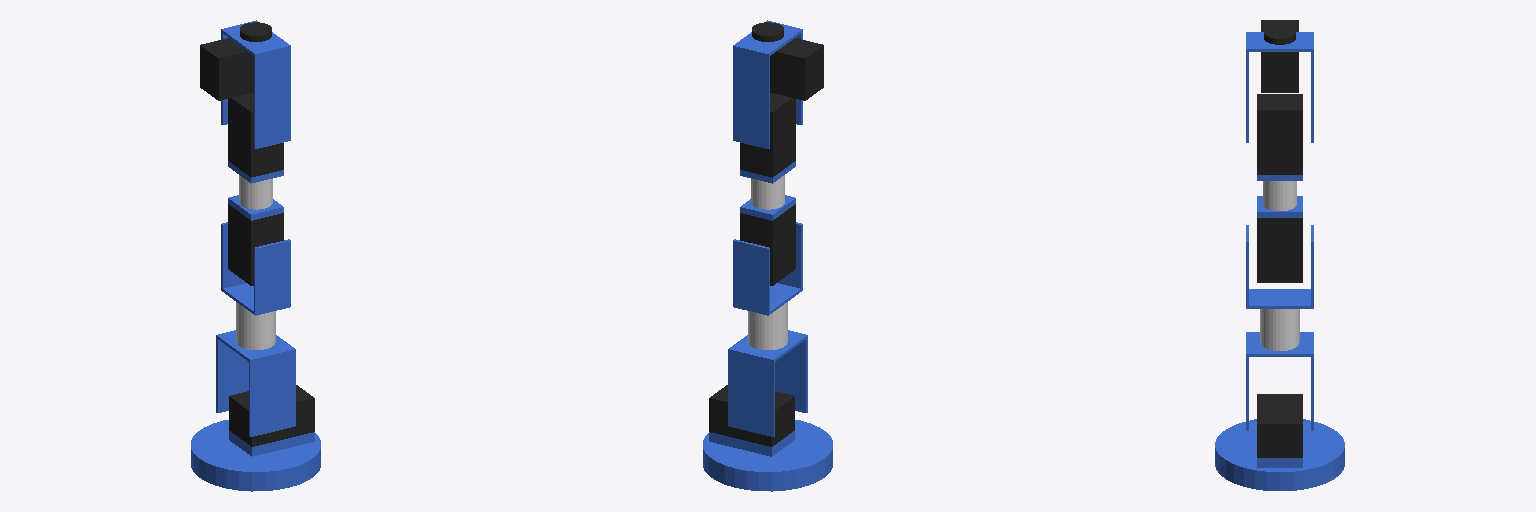
URDF robot description (xArm):
<?xml version="1.0" ?>
<robot name="xArm">

  <link name="world"/>

  <joint name="world_joint" type="fixed">
    <parent link="world"/>
    <child link="base_link"/>
    <origin rpy="0.0 0.0 0.0" xyz="0.0 0.0 0.05"/>
  </joint>

  <link name="base_link"/>

  <joint name="arm1" type="revolute">
    <parent link="base_link"/>
    <child link="link1"/>
    <origin rpy="0.0 0.0 0.0" xyz="0.0 0.0 0.05"/> 
    <axis xyz="0 0 1"/>
  </joint>

  <link name="link1">
    <visual>
      <origin rpy="0 0 0.0" xyz="0 0 0.0065"/>
      <geometry>
        <cylinder length="0.013" radius="0.04"/>
      </geometry>
      <material name="blue">
	<color rgba="0.3 0.5 0.9 1.0"/>
      </material>
    </visual>
    <visual>
      <origin rpy="0 0 0" xyz="0.011 0.0 0.01625"/>
      <geometry>
        <box size="0.044 0.0285 0.0065"/>
      </geometry>
      <material name="blue">
	<color rgba="0.3 0.5 0.9 1.0"/>
      </material>
    </visual>
    <visual>
      <origin rpy="0 0 0" xyz="0.011 0.0 0.031"/>
      <geometry>
        <box size="0.044 0.0285 0.023"/>
      </geometry>
      <material name="black">
	<color rgba="0.2 0.2 0.2 1"/>
      </material>
    </visual>
  </link>

  <joint name="arm2" type="revolute">
    <parent link="link1"/>
    <child link="link2"/>
    <origin rpy="0.0 0.0 0.0" xyz="0.0 0.0 0.0425"/>
    <axis xyz="0 1 0"/>
  </joint>

  <link name="link2">
    <visual>
      <origin rpy="0 0 0" xyz="0.0 0.02 0.0135"/>
      <geometry>
        <box size="0.032 0.002 0.052"/>
      </geometry>
      <material name="blue">
	<color rgba="0.3 0.5 0.9 1.0"/>
      </material>
    </visual>
    <visual>
      <origin rpy="0 0 0" xyz="0.0 -0.02 0.0135"/>
      <geometry>
        <box size="0.032 0.002 0.052"/>
      </geometry>
      <material name="blue">
	<color rgba="0.3 0.5 0.9 1.0"/>
      </material>
    </visual>
    <visual>
      <origin rpy="0 0 0" xyz="0.0 0.0 0.0385"/>
      <geometry>
        <box size="0.032 0.042 0.002"/>
      </geometry>
      <material name="blue">
	<color rgba="0.3 0.5 0.9 1.0"/>
      </material>
    </visual>
    <visual>
      <origin rpy="0 0 1.57075" xyz="0 0 0.054"/>
      <geometry>
        <cylinder length="0.029" radius="0.012"/>
      </geometry>
      <material name="white">
	<color rgba="0.9 0.9 0.9 1.0"/>
      </material>
    </visual>
    <visual>
      <origin rpy="0 0 0" xyz="0.0 0.0 0.0695"/>
      <geometry>
        <box size="0.025 0.042 0.002"/>
      </geometry>
      <material name="blue">
	<color rgba="0.3 0.5 0.9 1.0"/>
      </material>
    </visual>
    <visual>
      <origin rpy="0 0 0" xyz="0.0 0.02 0.091"/>
      <geometry>
        <box size="0.025 0.002 0.045"/>
      </geometry>
      <material name="blue">
	<color rgba="0.3 0.5 0.9 1.0"/>
      </material>
    </visual>
    <visual>
      <origin rpy="0 0 0" xyz="0.0 -0.02 0.091"/>
      <geometry>
        <box size="0.025 0.002 0.045"/>
      </geometry>
      <material name="blue">
	<color rgba="0.3 0.5 0.9 1.0"/>
      </material>
    </visual>
  </link>

  <joint name="arm3" type="revolute">
    <parent link="link2"/>
    <child link="link3"/>
    <origin rpy="0.0 0.0 0.0" xyz="0.0 0.0 0.0965"/>
    <axis xyz="0 1 0"/>
  </joint>

  <link name="link3">
    <visual>
      <origin rpy="0 0 0" xyz="0.0 0.0 0.011"/>
      <geometry>
        <box size="0.023 0.0285 0.044"/>
      </geometry>
      <material name="black">
	<color rgba="0.2 0.2 0.2 1"/>
      </material>
    </visual>
    <visual>
      <origin rpy="0 0 0" xyz="0.0 0.0 0.035"/>
      <geometry>
        <box size="0.023 0.0285 0.004"/>
      </geometry>
      <material name="blue">
	<color rgba="0.3 0.5 0.9 1.0"/>
      </material>
    </visual>
    <visual>
      <origin rpy="0 0 1.57075" xyz="0 0 0.0475"/>
      <geometry>
        <cylinder length="0.021" radius="0.0105"/>
      </geometry>
      <material name="white">
	<color rgba="0.9 0.9 0.9 1.0"/>
      </material>
    </visual>
    <visual>
      <origin rpy="0 0 0" xyz="0.0 0.0 0.060"/>
      <geometry>
        <box size="0.023 0.0285 0.004"/>
      </geometry>
      <material name="blue">
	<color rgba="0.3 0.5 0.9 1.0"/>
      </material>
    </visual>
    <visual>
      <origin rpy="0 0 0" xyz="0.0 0.0 0.084"/>
      <geometry>
        <box size="0.023 0.0285 0.044"/>
      </geometry>
      <material name="black">
	<color rgba="0.2 0.2 0.2 1"/>
      </material>
    </visual>
  </link>

  <joint name="arm4" type="revolute">
    <parent link="link3"/>
    <child link="link4"/>
    <origin rpy="0.0 0.0 0.0" xyz="0.0 0.0 0.0965"/>
    <axis xyz="0 1 0"/>
  </joint>

  <link name="link4">
    <visual>
      <origin rpy="0 0 0" xyz="0.0 0.02 0.0195"/>
      <geometry>
        <box size="0.025 0.002 0.064"/>
      </geometry>
      <material name="blue">
	<color rgba="0.3 0.5 0.9 1.0"/>
      </material>
    </visual>
    <visual>
      <origin rpy="0 0 0" xyz="0.0 -0.02 0.0195"/>
      <geometry>
        <box size="0.025 0.002 0.064"/>
      </geometry>
      <material name="blue">
	<color rgba="0.3 0.5 0.9 1.0"/>
      </material>
    </visual>
    <visual>
      <origin rpy="0 0 0" xyz="0.0 0.0 0.0505"/>
      <geometry>
        <box size="0.025 0.042 0.002"/>
      </geometry>
      <material name="blue">
	<color rgba="0.3 0.5 0.9 1.0"/>
      </material>
    </visual>
    <visual>
      <origin rpy="0 0 0" xyz="-0.011 0.0 0.03525"/>
      <geometry>
        <box size="0.044 0.023 0.0285"/>
      </geometry>
      <material name="black">
	<color rgba="0.2 0.2 0.2 1"/>
      </material>
    </visual>
  </link>

  <joint name="arm5" type="revolute">
    <parent link="link4"/>
    <child link="link5"/>
    <origin rpy="0.0 0.0 0.0" xyz="0.0 0.0 0.055"/>
    <axis xyz="0 0 1"/>
  </joint>

  <link name="link5">
    <visual>
      <origin rpy="0 0 0.0" xyz="0 0 0"/>
      <geometry>
        <cylinder length="0.004" radius="0.01"/>
      </geometry>
      <material name="black">
	<color rgba="0.2 0.2 0.2 1.0"/>
      </material>
    </visual>
  </link>

</robot>

--- What the picture shows (computed from the rendered views, not written in the file) ---
The picture shows the robot from 3 angles, left to right: view 1: azimuth 30°, elevation 25°; view 2: azimuth 150°, elevation 25°; view 3: azimuth 270°, elevation 25°; orthographic projection.
Robot: xArm — 7 links, 6 joints (5 revolute, 1 fixed); root link world; default pose: all joints at 0.
Links seen in each view (by area): view 1: link2, link1, link4, link3, link5; view 2: link2, link1, link4, link3, link5; view 3: link1, link3, link2, link4, link5.
Boxes of the visible links, box(x1,y1,x2,y2) form: link2: box(216, 222, 295, 436); link1: box(191, 385, 320, 491); link4: box(200, 20, 290, 148); link3: box(228, 93, 283, 285); link5: box(240, 22, 271, 41); link2: box(728, 222, 807, 436); link1: box(703, 385, 832, 491); link4: box(733, 20, 823, 148); link3: box(740, 93, 795, 285); link5: box(752, 22, 783, 41); link1: box(1215, 394, 1344, 490); link3: box(1257, 94, 1302, 282); link2: box(1246, 225, 1313, 430); link4: box(1246, 20, 1313, 142); link5: box(1264, 25, 1295, 44).
Bounding box of the posed robot: 0.08 × 0.08 × 0.2925 m (x, y, z).
Geometry: primitives only (box / cylinder / sphere), no mesh files.